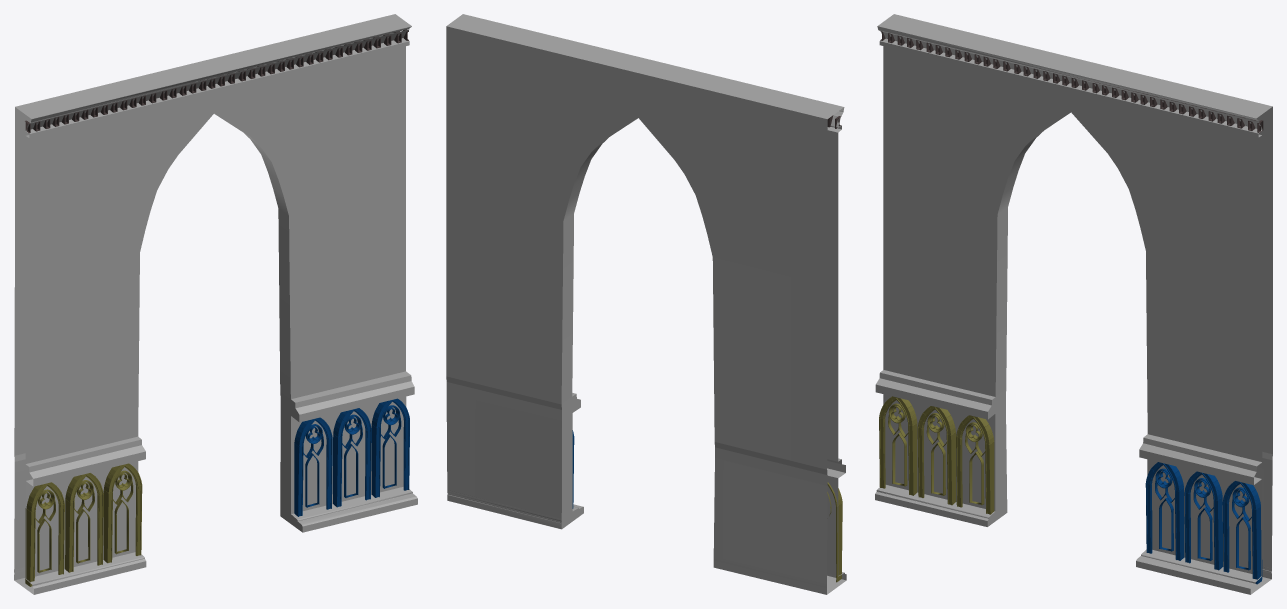
The model's file is WallBedroomLeft.fbx.
3 views of the same model, side by side, from view 1: azimuth 30°, elevation 25°; view 2: azimuth 150°, elevation 25°; view 3: azimuth 330°, elevation 25° (orthographic).
Visible parts, largest first — view 1: wall_long_group_low; view 2: wall_long_group_low; view 3: wall_long_group_low.
Boxes of the visible parts, x1,y1,x2,y2 form: wall_long_group_low: [14, 14, 417, 594]; wall_long_group_low: [446, 14, 846, 594]; wall_long_group_low: [875, 14, 1272, 594].
Bounding box in the file's own units: 4.13 × 4.92 × 0.4398.
